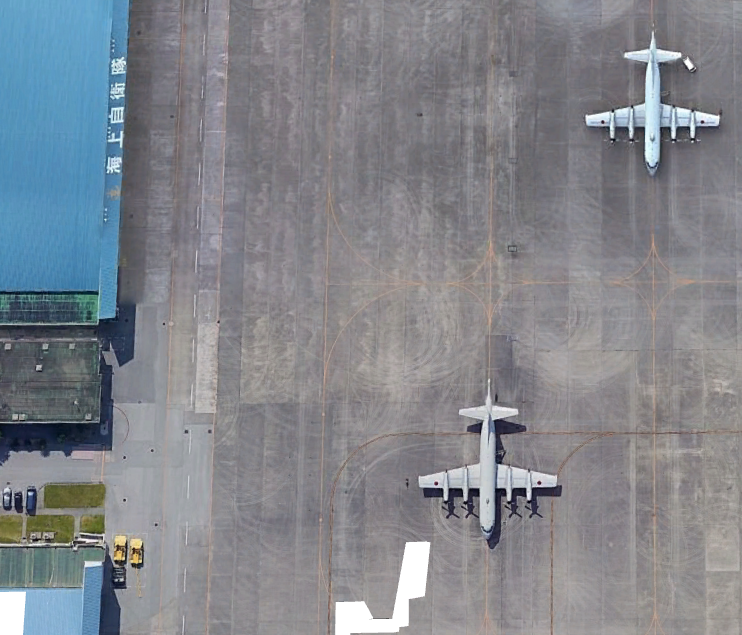A9: (410, 365, 561, 547), (576, 7, 727, 189)
